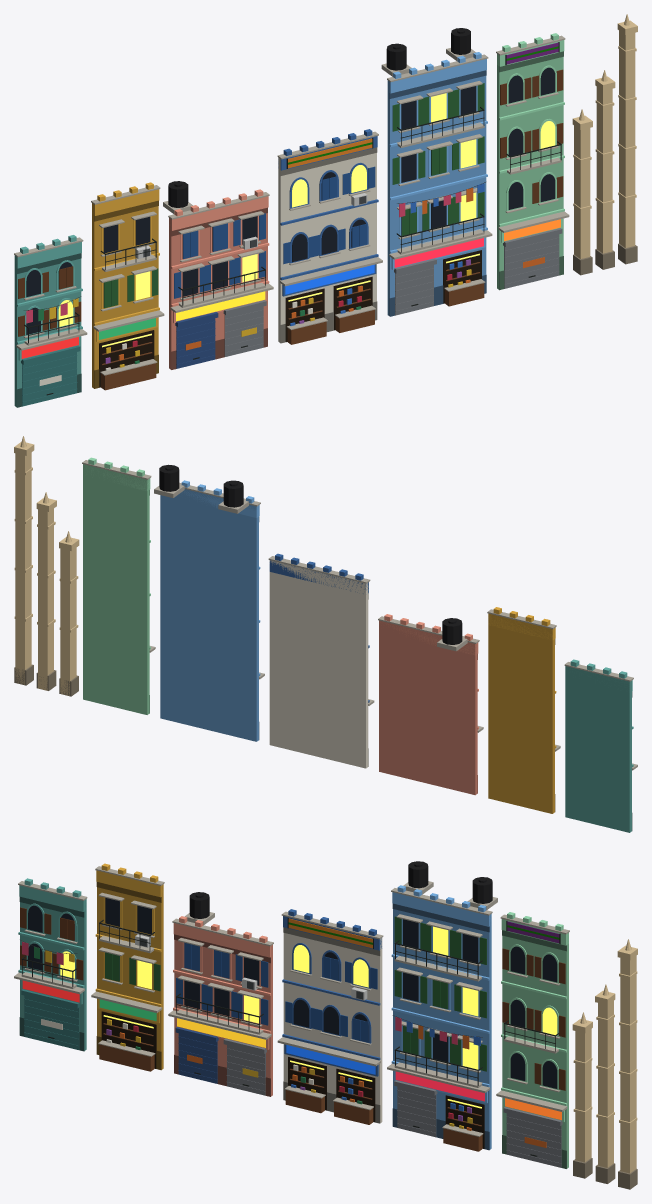
The model's file is facades.glb.
The picture shows the model from 3 angles, top to bottom: view 1: azimuth 30°, elevation 25°; view 2: azimuth 150°, elevation 25°; view 3: azimuth 330°, elevation 25°; orthographic projection.
Visible parts, largest first — view 1: Facade_E_6x14, Facade_D_6x11, Facade_F_4x14, Facade_C_6x9, Facade_B_4x11, Facade_A_4x9, Facade_Pilaster_14, Facade_Pilaster_11, Facade_Pilaster_9, Facade_D_6x11_Sign, Facade_C_6x9_Sign, Facade_E_6x14_Sign; view 2: Facade_E_6x14, Facade_D_6x11, Facade_F_4x14, Facade_C_6x9, Facade_B_4x11, Facade_A_4x9, Facade_Pilaster_14, Facade_Pilaster_11, Facade_Pilaster_9; view 3: Facade_E_6x14, Facade_D_6x11, Facade_F_4x14, Facade_C_6x9, Facade_B_4x11, Facade_A_4x9, Facade_Pilaster_14, Facade_Pilaster_11, Facade_Pilaster_9, Facade_E_6x14_Sign, Facade_D_6x11_Sign, Facade_C_6x9_Sign (+3 smaller).
Part boxes in pixels (x1,y1,x2,y2): Facade_E_6x14: [381, 28, 492, 316]; Facade_D_6x11: [277, 129, 382, 344]; Facade_F_4x14: [496, 33, 569, 290]; Facade_C_6x9: [163, 181, 273, 369]; Facade_B_4x11: [91, 182, 164, 390]; Facade_A_4x9: [14, 235, 87, 407]; Facade_Pilaster_14: [617, 14, 637, 264]; Facade_Pilaster_11: [595, 70, 615, 269]; Facade_Pilaster_9: [572, 109, 592, 275]; Facade_D_6x11_Sign: [285, 264, 374, 294]; Facade_C_6x9_Sign: [176, 291, 265, 321]; Facade_E_6x14_Sign: [394, 238, 483, 267]; Facade_E_6x14: [154, 464, 264, 741]; Facade_D_6x11: [268, 553, 374, 768]; Facade_F_4x14: [82, 457, 155, 714]; Facade_C_6x9: [378, 614, 483, 795]; Facade_B_4x11: [487, 607, 560, 813]; Facade_A_4x9: [564, 659, 637, 832]; Facade_Pilaster_14: [14, 436, 34, 685]; Facade_Pilaster_11: [36, 492, 56, 690]; Facade_Pilaster_9: [59, 531, 79, 696]; Facade_E_6x14: [387, 861, 497, 1151]; Facade_D_6x11: [277, 909, 383, 1124]; Facade_F_4x14: [496, 912, 569, 1168]; Facade_C_6x9: [168, 892, 273, 1096]; Facade_B_4x11: [91, 863, 164, 1071]; Facade_A_4x9: [14, 878, 87, 1051]; Facade_Pilaster_14: [617, 939, 637, 1189]; Facade_Pilaster_11: [595, 984, 615, 1183]; Facade_Pilaster_9: [572, 1012, 592, 1178]; Facade_E_6x14_Sign: [395, 1071, 484, 1101]; Facade_D_6x11_Sign: [286, 1045, 375, 1074]; Facade_C_6x9_Sign: [177, 1018, 265, 1047].
Size of the model in its own units: 38.34 by 15.45 by 2.19.
